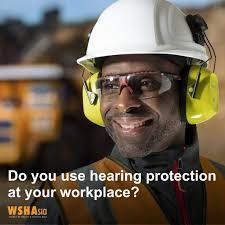Ear_protector: (184, 56, 225, 135), (72, 66, 105, 126)
Hard_hat: (67, 0, 215, 69)
Vest: (2, 153, 225, 225)
Visor: (95, 72, 175, 104)
